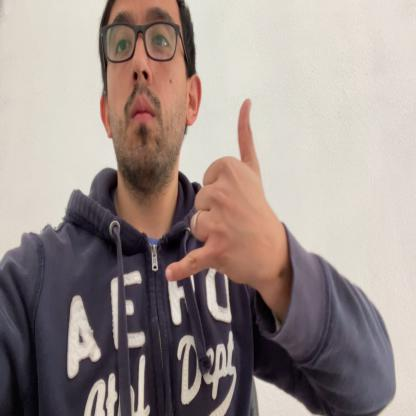Y: (165, 98, 278, 300)
